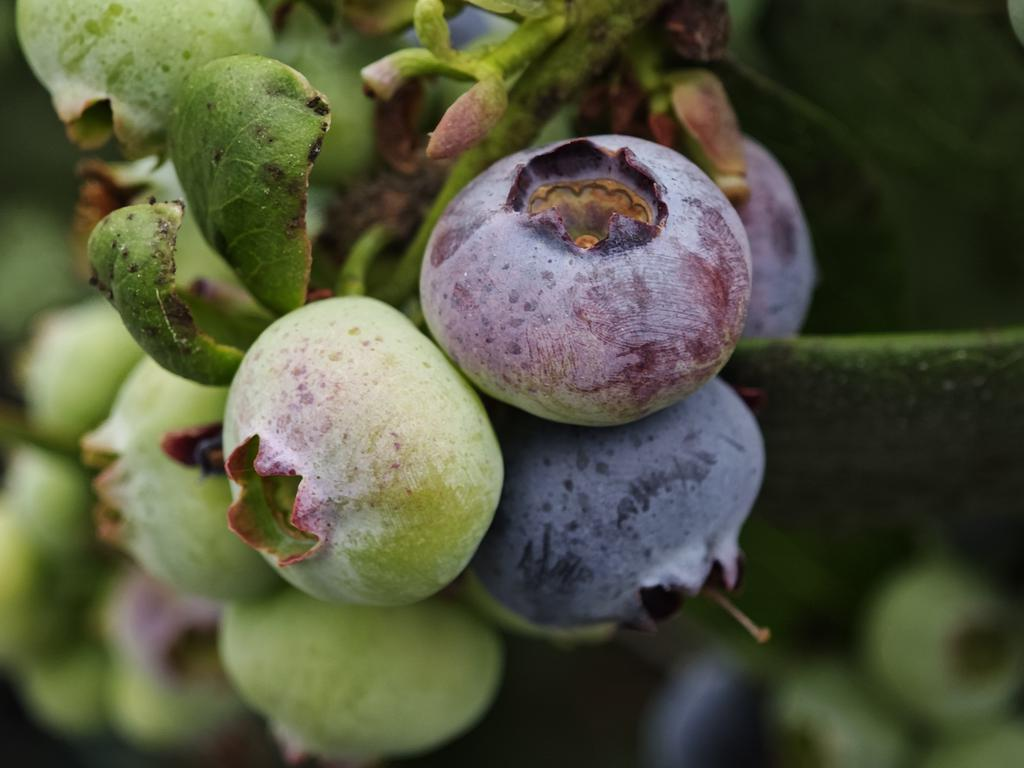RipeBlueBerry: (479, 380, 772, 639)
Semi-RipeBlueBerry: (419, 130, 755, 429)
UnripeBlueBerry: (215, 289, 509, 613)
